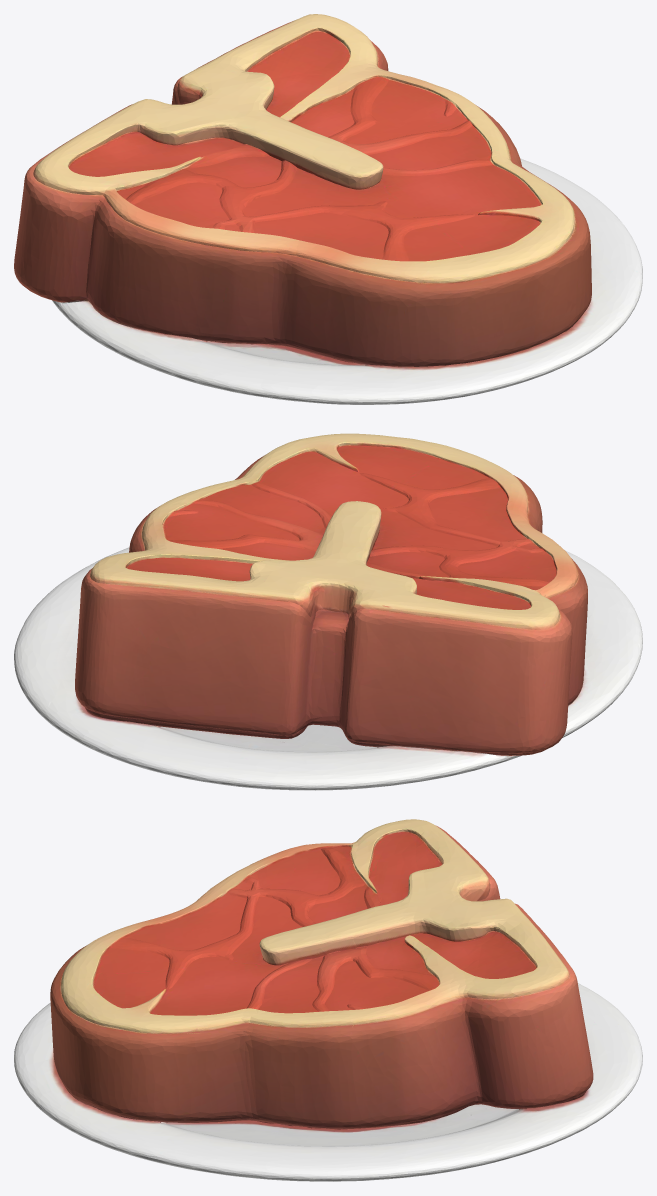
Rendered from meal_13.glb.
3 renders of one model, top to bottom at view 1: azimuth 30°, elevation 25°; view 2: azimuth 150°, elevation 25°; view 3: azimuth 270°, elevation 25°, orthographic. The views are drawn at different scales.
Parts seen in each view (by area): view 1: tripo_node_3193a8e8-169c-4d2f-be26-ad4629c75f47; view 2: tripo_node_3193a8e8-169c-4d2f-be26-ad4629c75f47; view 3: tripo_node_3193a8e8-169c-4d2f-be26-ad4629c75f47.
Part boxes in pixels (x1,y1,x2,y2): tripo_node_3193a8e8-169c-4d2f-be26-ad4629c75f47: (14, 14, 642, 404); tripo_node_3193a8e8-169c-4d2f-be26-ad4629c75f47: (14, 433, 642, 790); tripo_node_3193a8e8-169c-4d2f-be26-ad4629c75f47: (14, 819, 642, 1181).
Bounding box in the file's own units: 0.9363 × 0.2685 × 1.
1 material, 1 textured.
